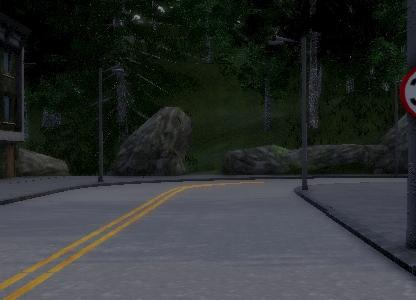Speed_30: (399, 60, 416, 123)
